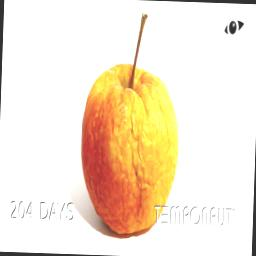Apple Rotten: (69, 7, 187, 241)
